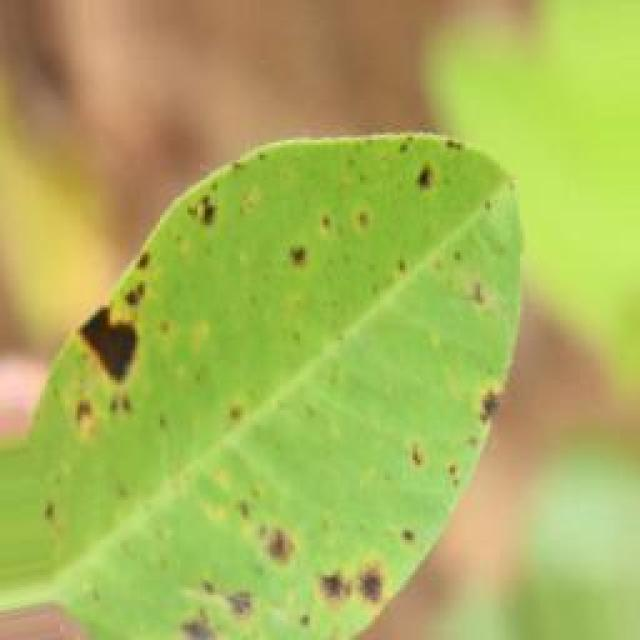Yellowish: (20, 125, 500, 640)
